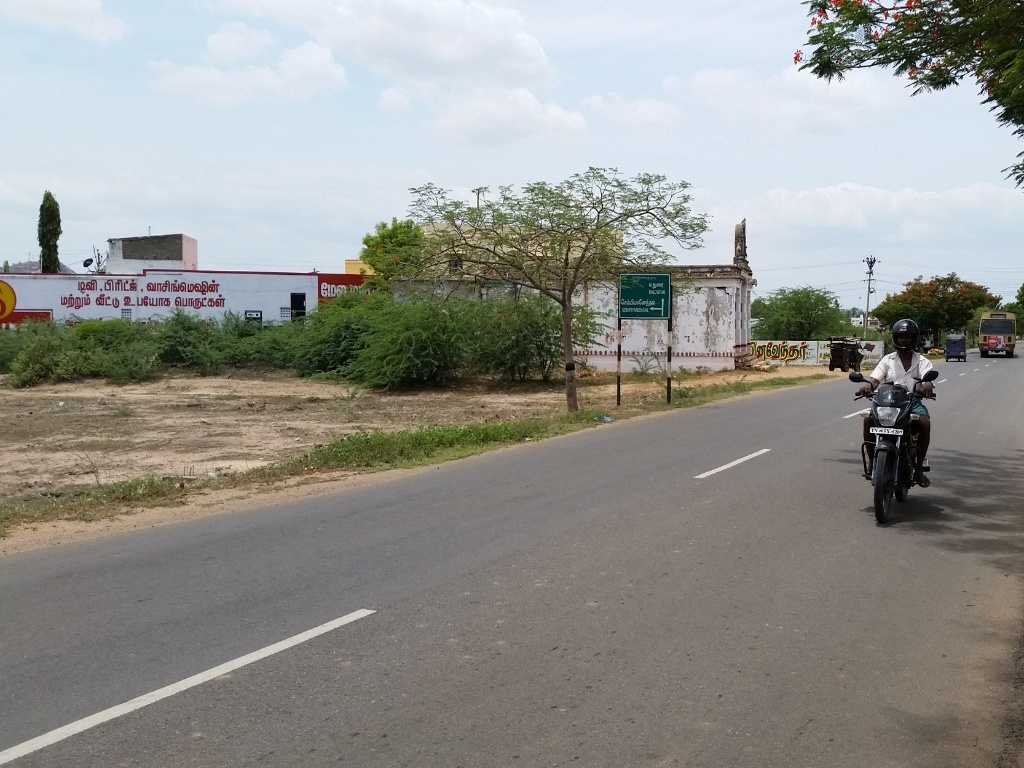biker: (846, 278, 960, 538)
helmet: (881, 312, 932, 370)
